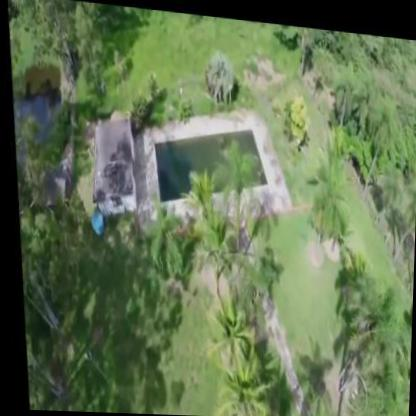agua: (165, 114, 255, 200)
